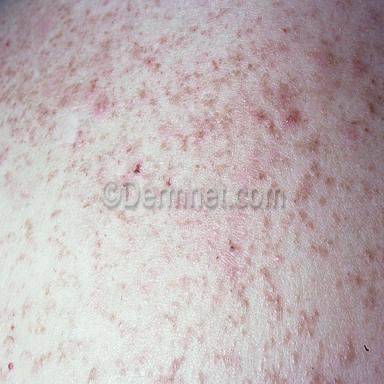Darier_s-Disease: (0, 0, 384, 382)
